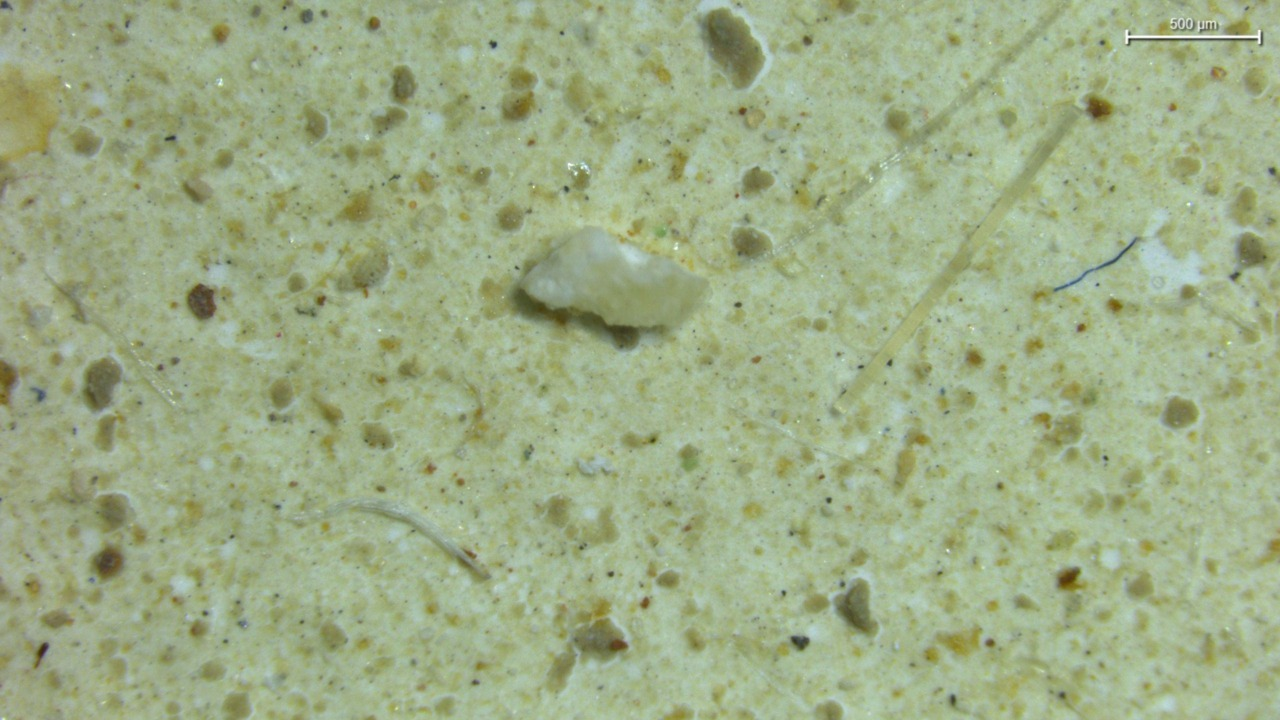microplastic_fragment: (521, 227, 708, 328)
